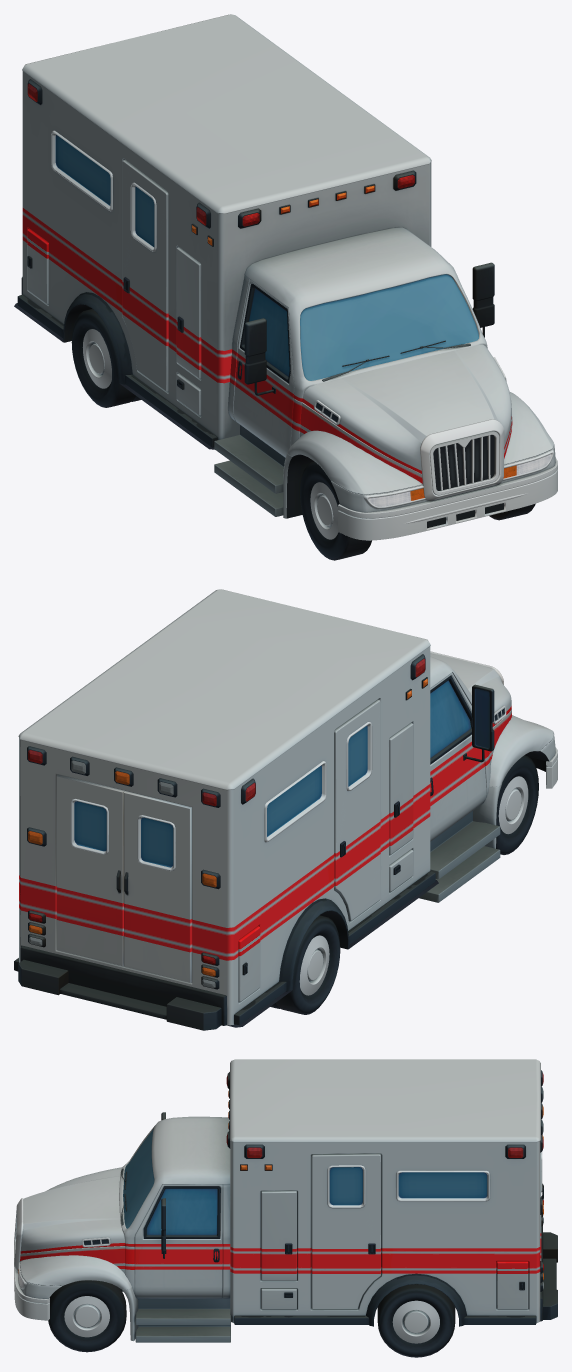
The model's file is ambulance.glb.
3 views of the same model, one above another, from view 1: azimuth 30°, elevation 25°; view 2: azimuth 150°, elevation 25°; view 3: azimuth 270°, elevation 25° (orthographic). The views are drawn at different scales.
Parts seen in each view (by area): view 1: node_id33, node_id31; view 2: node_id33; view 3: node_id33.
Boxes of the visible parts, <box> form: node_id33: <box>14,14,557,560</box>; node_id31: <box>369,454,551,506</box>; node_id33: <box>14,589,557,1030</box>; node_id33: <box>14,1059,557,1357</box>.
Size of the model in its own units: 0.4704 by 0.512 by 1.15.
2 materials, 2 textured.
